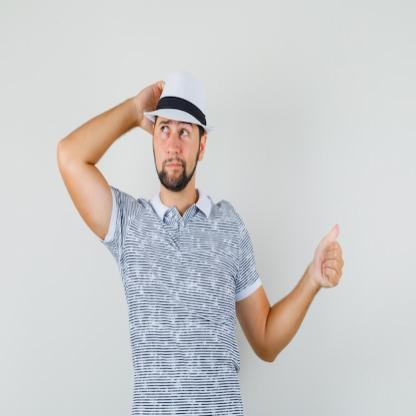thumb_up: (312, 221, 346, 294)
